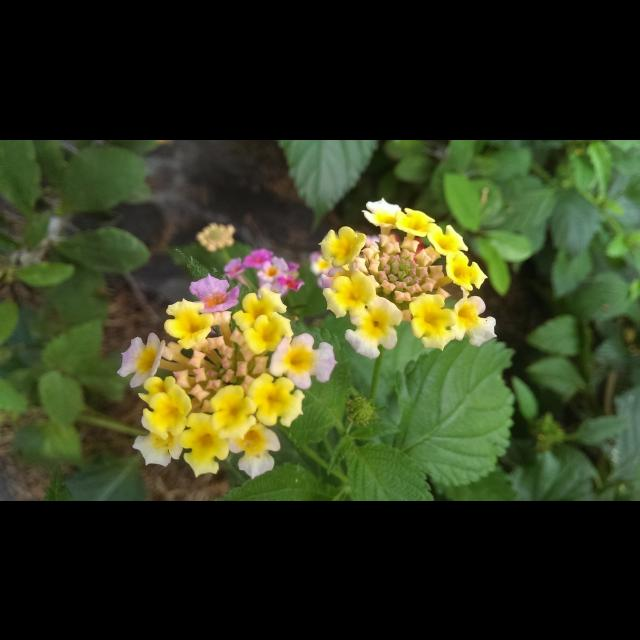Flower: (117, 247, 335, 481), (308, 197, 498, 361)
